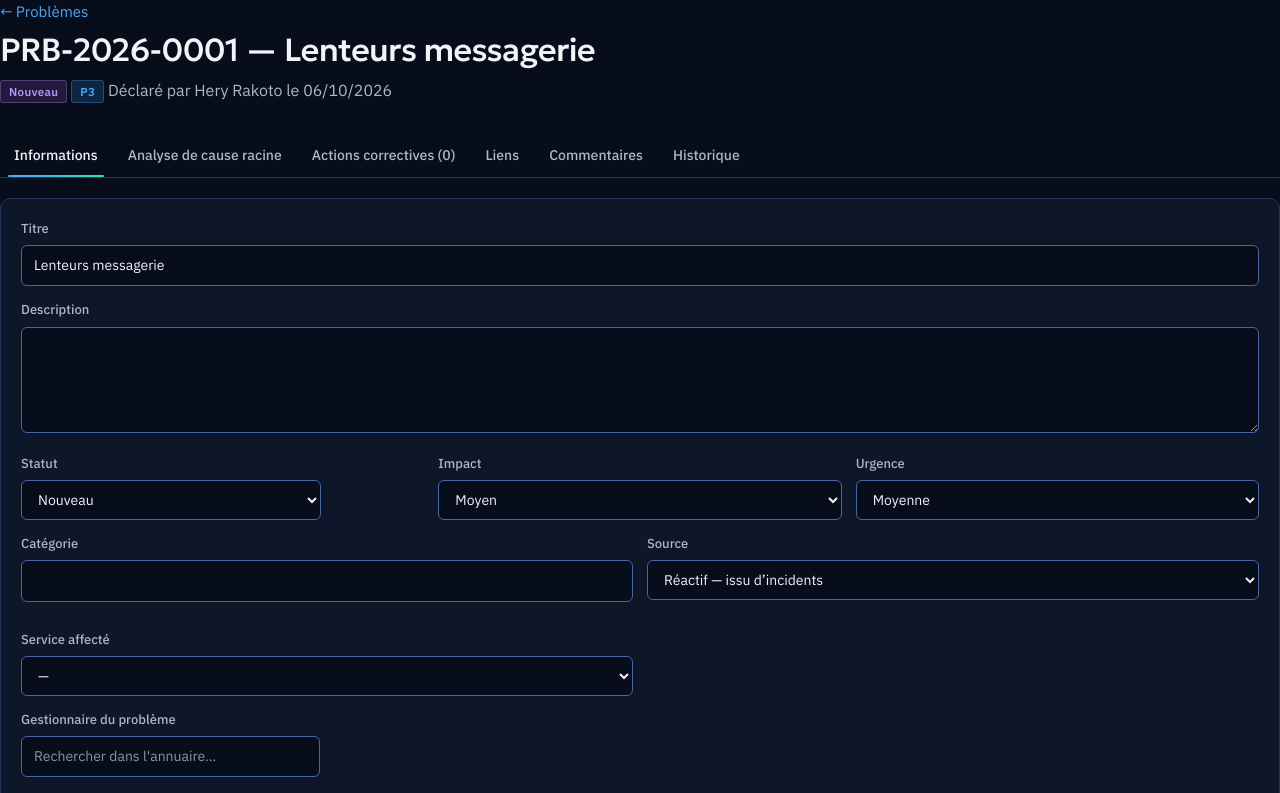
Test case: Analyse de cause racine — démarrer une analyse (B1) › « + Ishikawa (6M) » ouvre l'éditeur sans planter
Click the tab "Analyse de cause racine" at (205, 156), box [114,135,296,177]
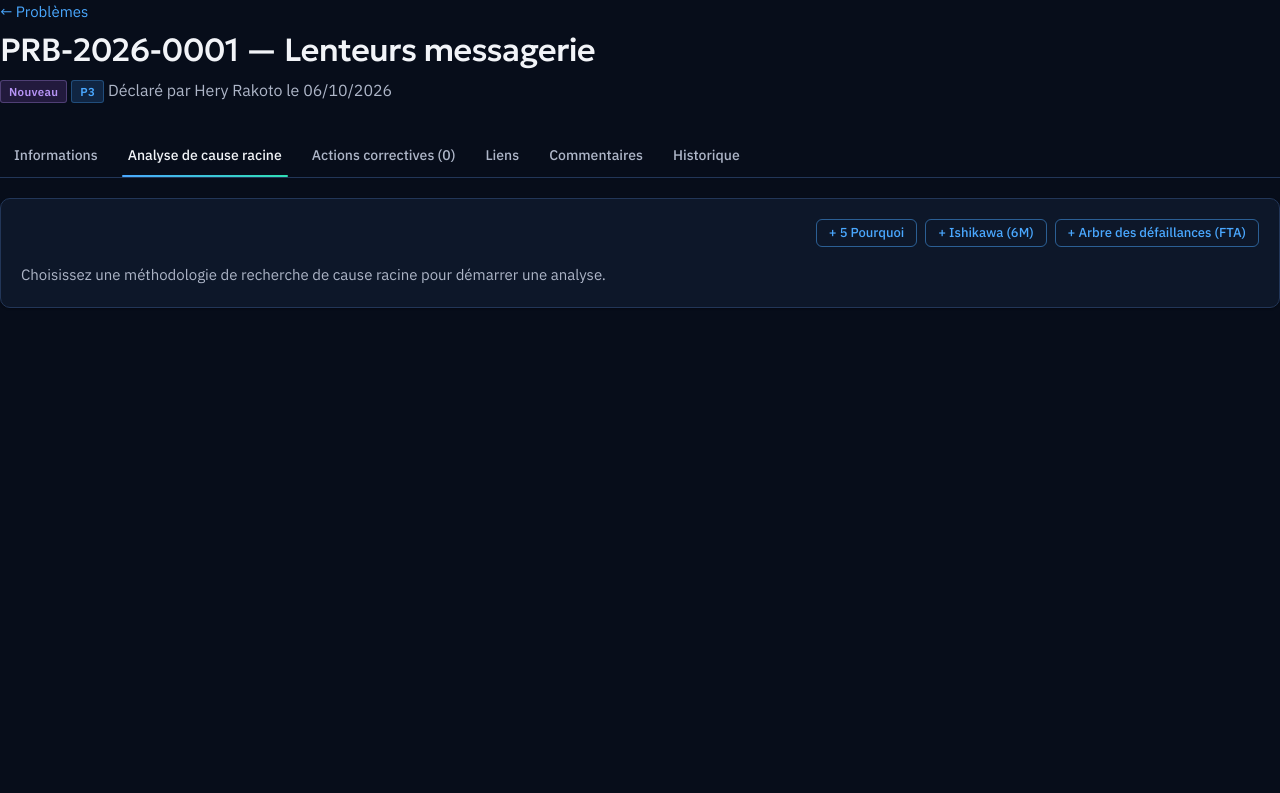
Click the button "+ Ishikawa (6M)" at (986, 233), box [925,219,1047,248]
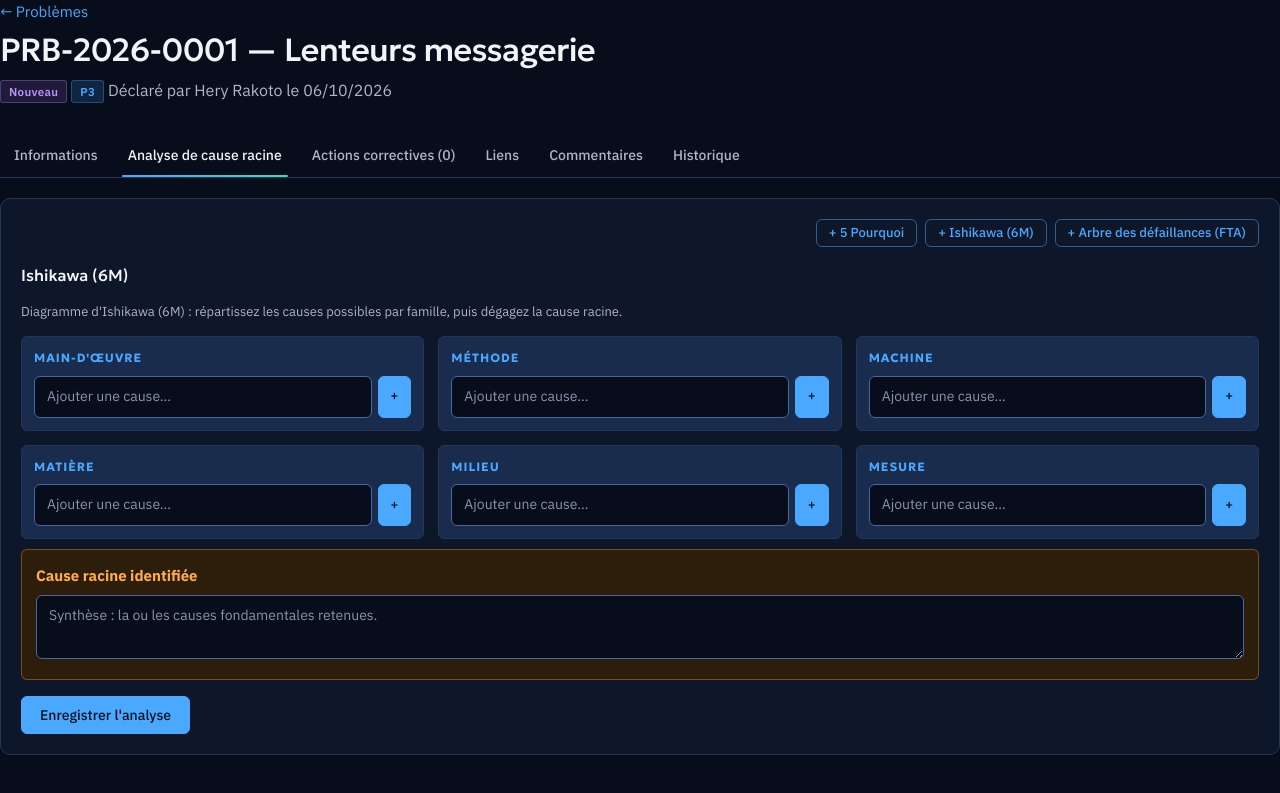
Expected: the heading "Méthode" is shown, [451,350,519,365]
Expected: the button "Enregistrer l'analyse" is shown, [21,696,190,734]
